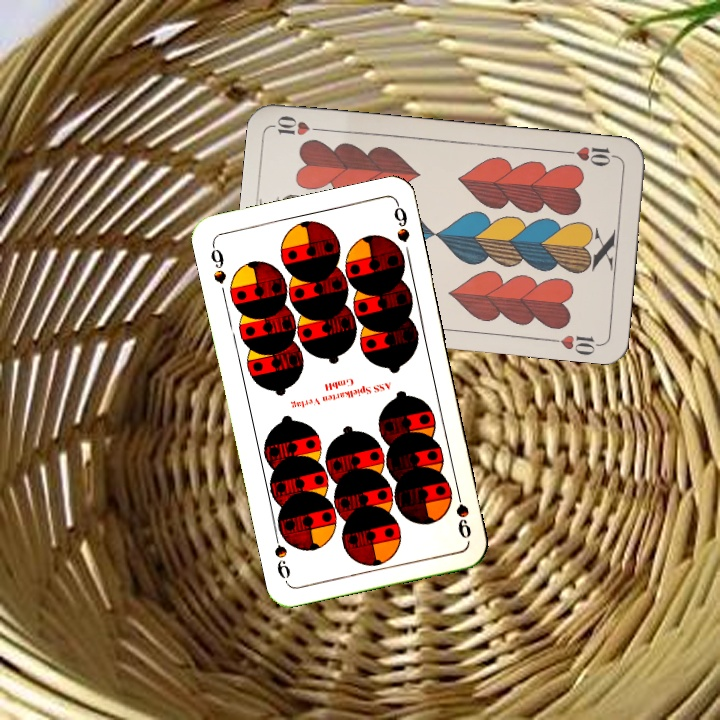H10: (561, 142, 620, 169)
S9: (452, 484, 474, 541), (206, 240, 229, 287)
